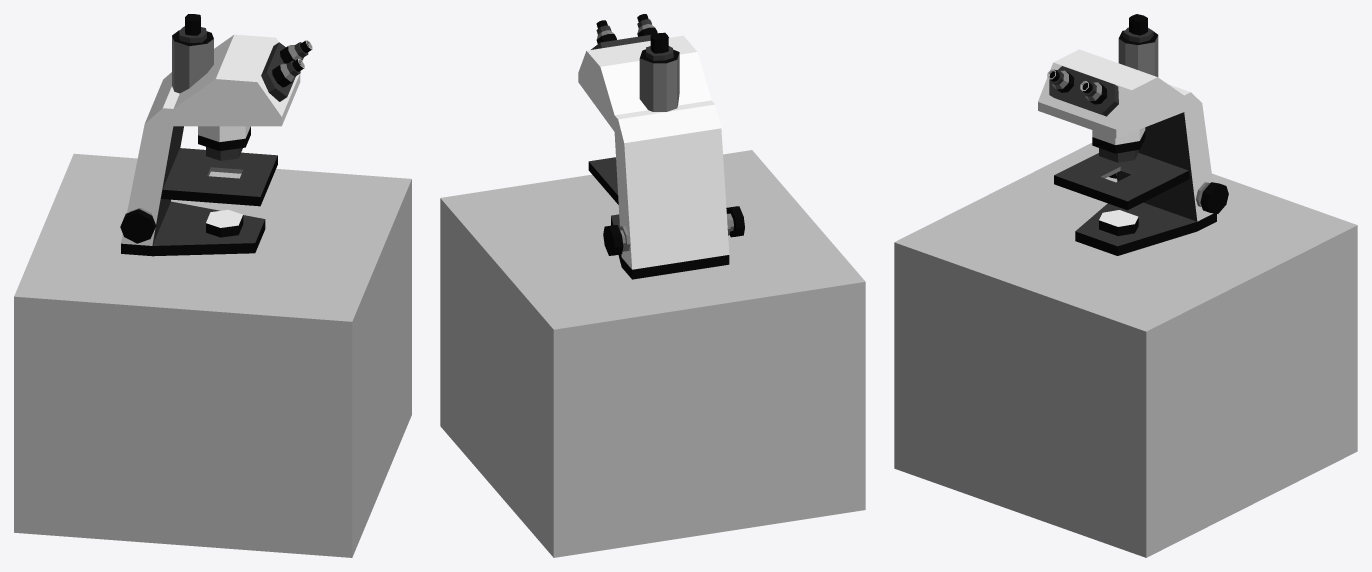
The model's file is Microscopio.gltf.
3 views of the same model, side by side, from view 1: azimuth 30°, elevation 25°; view 2: azimuth 150°, elevation 25°; view 3: azimuth 270°, elevation 25° (orthographic). The views are drawn at different scales.
Visible parts, largest first — view 1: Microscopio; view 2: Microscopio; view 3: Microscopio.
Part boxes in pixels (x1=…): Microscopio: x1=14, y1=14, x2=411, y2=557; Microscopio: x1=440, y1=14, x2=865, y2=557; Microscopio: x1=894, y1=14, x2=1357, y2=557.
Bounding box in the file's own units: 1.57 × 1.63 × 1.57.
1 material, 1 textured.
